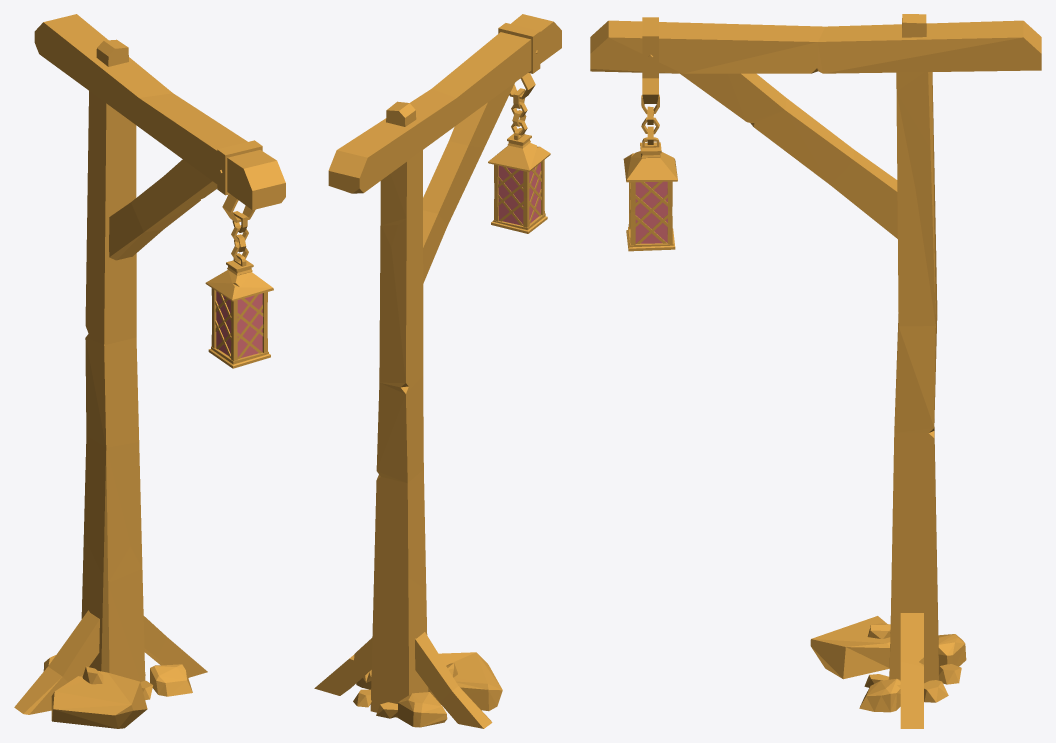
File: lantern-street-fixed-halloween.fbx
3 renders of one model, left to right at view 1: azimuth 30°, elevation 25°; view 2: azimuth 150°, elevation 25°; view 3: azimuth 270°, elevation 25°, orthographic. The views are drawn at different scales.
Parts seen in each view (by area): view 1: lantern-street-fixed-halloween; view 2: lantern-street-fixed-halloween; view 3: lantern-street-fixed-halloween.
Part boxes in pixels (x1=…): lantern-street-fixed-halloween: x1=14, y1=14, x2=285, y2=728; lantern-street-fixed-halloween: x1=314, y1=14, x2=561, y2=728; lantern-street-fixed-halloween: x1=590, y1=14, x2=1041, y2=728.
Bounding box in the file's own units: 0.956 × 3.24 × 1.97.
